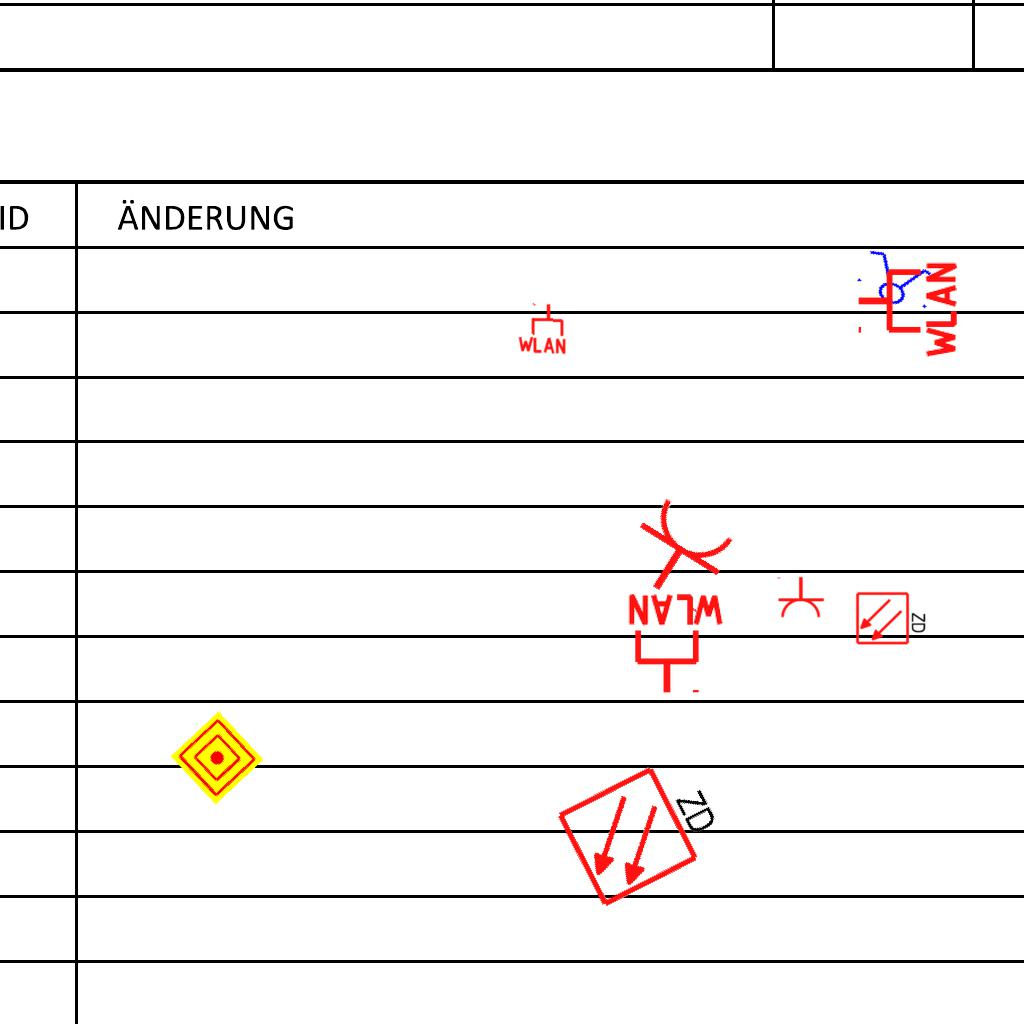NAM-Nichtautomatischer_Melder: (170, 711, 264, 805)
Schukosteckdose_einfach: (614, 490, 745, 618), (775, 576, 825, 619)
Serienschalter: (848, 243, 944, 319)
WLAN: (624, 592, 728, 697), (854, 258, 959, 362), (515, 300, 571, 356)
ZD_Melder_in_Zwischendecke_mit_Revisionsoeffnung_mind_40_x_40_cm: (551, 741, 737, 912), (855, 589, 929, 646)
